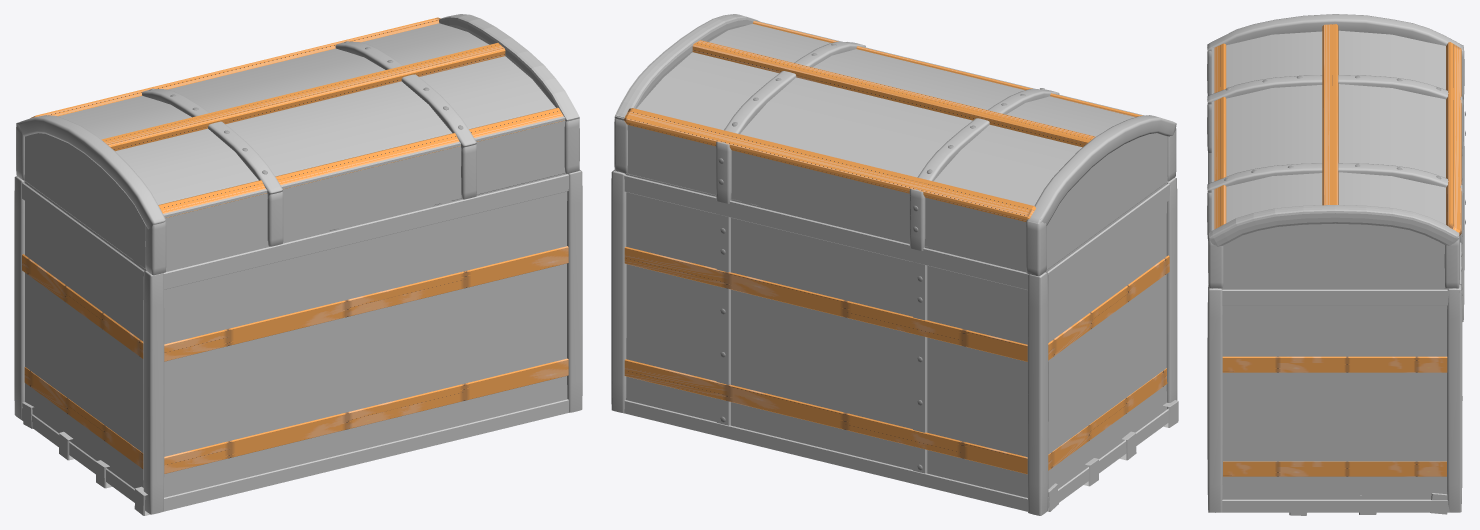
The model's file is chest.fbx.
3 views of the same model, side by side, from view 1: azimuth 30°, elevation 25°; view 2: azimuth 150°, elevation 25°; view 3: azimuth 270°, elevation 25° (orthographic). The views are drawn at different scales.
Visible parts, largest first — view 1: pCube10, pCube13, pCube11, pCube2, pCube12, pCube22, pCube23, pCube9, pCube26 (×2), pCube20, pCube18, pCube8 (+6 smaller); view 2: pCube10, pCube13, pCube11, pCube2, pCube12, pCube21, pCube22, pCube23, pCube6, pCube26 (×2), pCube18, pCube7 (+8 smaller); view 3: pCube13, pCube10, pCube26 (×2), pCube19, pCube2, pCube11, pCube18, pCube12, pCube8, pCube7, pCube22, pCube23 (+5 smaller).
Part boxes in pixels (x1=…): pCube10: x1=24, y1=173, x2=567, y2=497; pCube13: x1=20, y1=23, x2=565, y2=270; pCube11: x1=22, y1=246, x2=568, y2=361; pCube2: x1=22, y1=174, x2=568, y2=289; pCube12: x1=24, y1=358, x2=568, y2=473; pCube22: x1=22, y1=399, x2=568, y2=511; pCube23: x1=101, y1=43, x2=505, y2=151; pCube9: x1=143, y1=270, x2=164, y2=514; pCube26 (×2): x1=142, y1=41, x2=476, y2=197; pCube20: x1=158, y1=107, x2=564, y2=217; pCube18: x1=17, y1=115, x2=165, y2=229; pCube8: x1=562, y1=170, x2=582, y2=412; pCube10: x1=615, y1=171, x2=1167, y2=497; pCube13: x1=615, y1=21, x2=1167, y2=270; pCube11: x1=624, y1=247, x2=1169, y2=361; pCube2: x1=624, y1=174, x2=1170, y2=289; pCube12: x1=624, y1=359, x2=1167, y2=474; pCube21: x1=623, y1=108, x2=1035, y2=221; pCube22: x1=624, y1=400, x2=1168, y2=511; pCube23: x1=692, y1=40, x2=1095, y2=147; pCube6: x1=1027, y1=272, x2=1048, y2=515; pCube26 (×2): x1=716, y1=41, x2=1059, y2=190; pCube18: x1=1027, y1=115, x2=1176, y2=225; pCube7: x1=611, y1=170, x2=630, y2=413; pCube13: x1=1211, y1=30, x2=1458, y2=287; pCube10: x1=1212, y1=288, x2=1458, y2=499; pCube26 (×2): x1=1207, y1=75, x2=1462, y2=192; pCube19: x1=1209, y1=205, x2=1459, y2=246; pCube2: x1=1209, y1=153, x2=1461, y2=305; pCube11: x1=1222, y1=356, x2=1447, y2=372; pCube18: x1=1207, y1=14, x2=1462, y2=51; pCube12: x1=1223, y1=461, x2=1446, y2=476; pCube8: x1=1207, y1=284, x2=1222, y2=512; pCube7: x1=1447, y1=284, x2=1462, y2=512; pCube22: x1=1222, y1=499, x2=1459, y2=512; pCube23: x1=1322, y1=24, x2=1338, y2=205.
Bounding box in the file's own units: 1.9 × 1.38 × 1.05.
